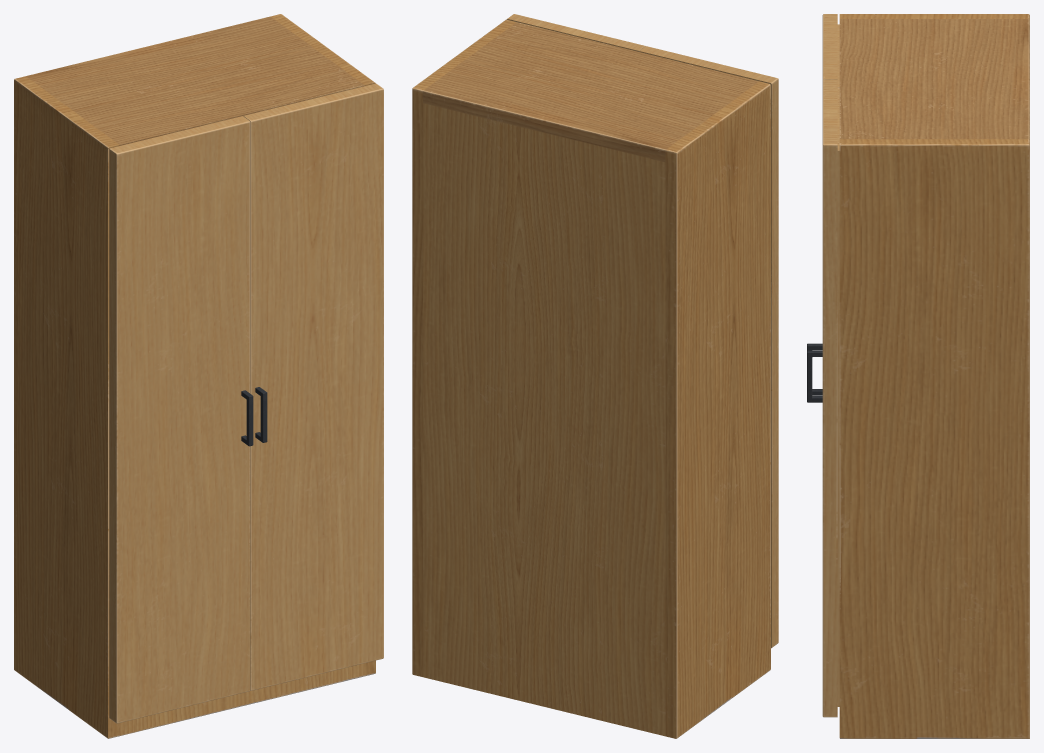
The model's file is closet.fbx.
3 views of the same model, side by side, from view 1: azimuth 30°, elevation 25°; view 2: azimuth 150°, elevation 25°; view 3: azimuth 270°, elevation 25° (orthographic).
Visible parts, largest first — view 1: closet1; view 2: closet1; view 3: closet1.
Part boxes in pixels (x1=…): closet1: x1=14, y1=14, x2=383, y2=738; closet1: x1=412, y1=14, x2=778, y2=738; closet1: x1=807, y1=14, x2=1029, y2=738.
Bounding box in the file's own units: 90 × 190 × 64.5.
Materials: 1 (1 with a texture image).
